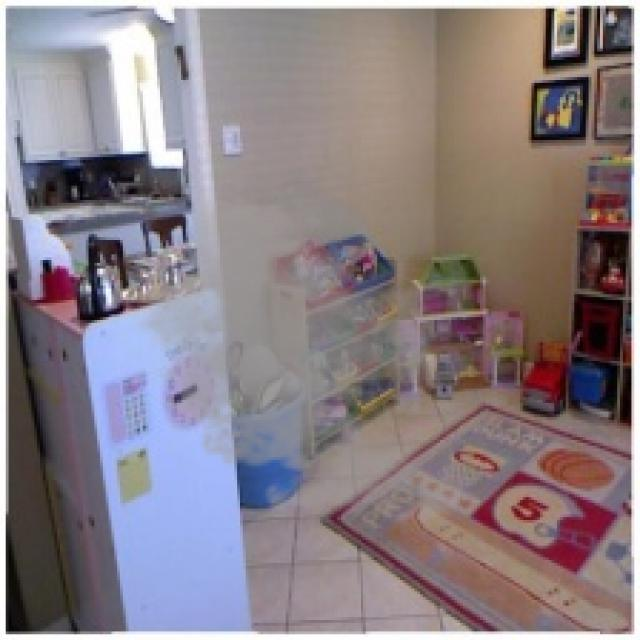smoke: (114, 166, 529, 534)
